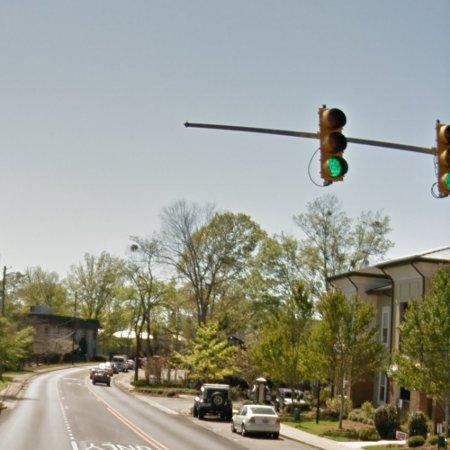traffic lights: (318, 106, 348, 181)
